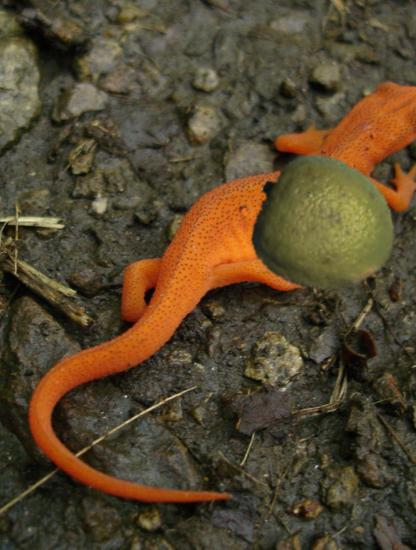Limes: (250, 155, 398, 303)
